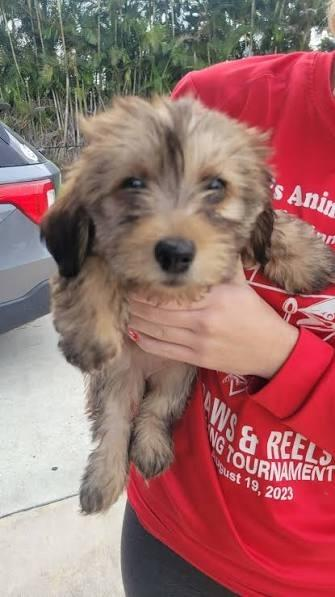puppy-dog: (36, 91, 335, 515)
